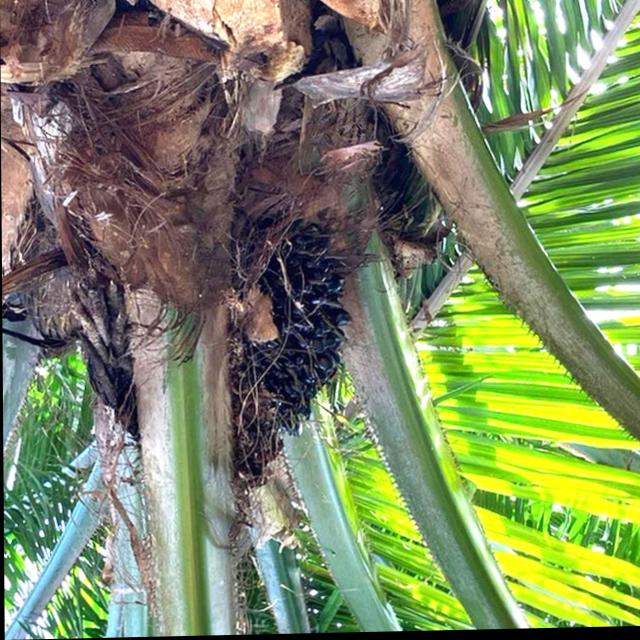unripe: (218, 184, 371, 475)
